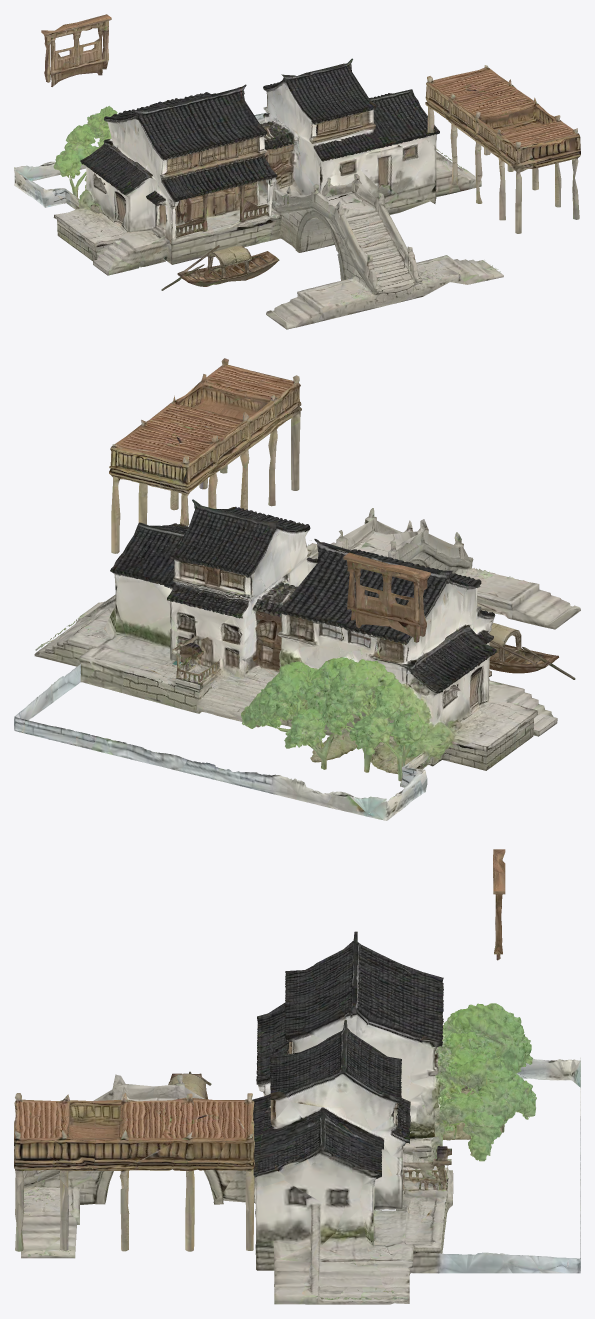
File: bq_canal_house.glb
3 renders of one model, top to bottom at view 1: azimuth 30°, elevation 25°; view 2: azimuth 150°, elevation 25°; view 3: azimuth 270°, elevation 25°, orthographic. The views are drawn at different scales.
Size of the model in its own units: 1.88 by 0.8603 by 1.9.
1 material, 1 textured.
